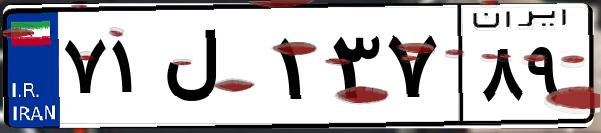1: (270, 28, 330, 110), (110, 28, 158, 98)
3: (330, 28, 385, 110)
7: (385, 28, 445, 110), (57, 26, 110, 100)
8: (475, 38, 525, 113)
9: (525, 38, 570, 115)
ل: (158, 20, 270, 120)
